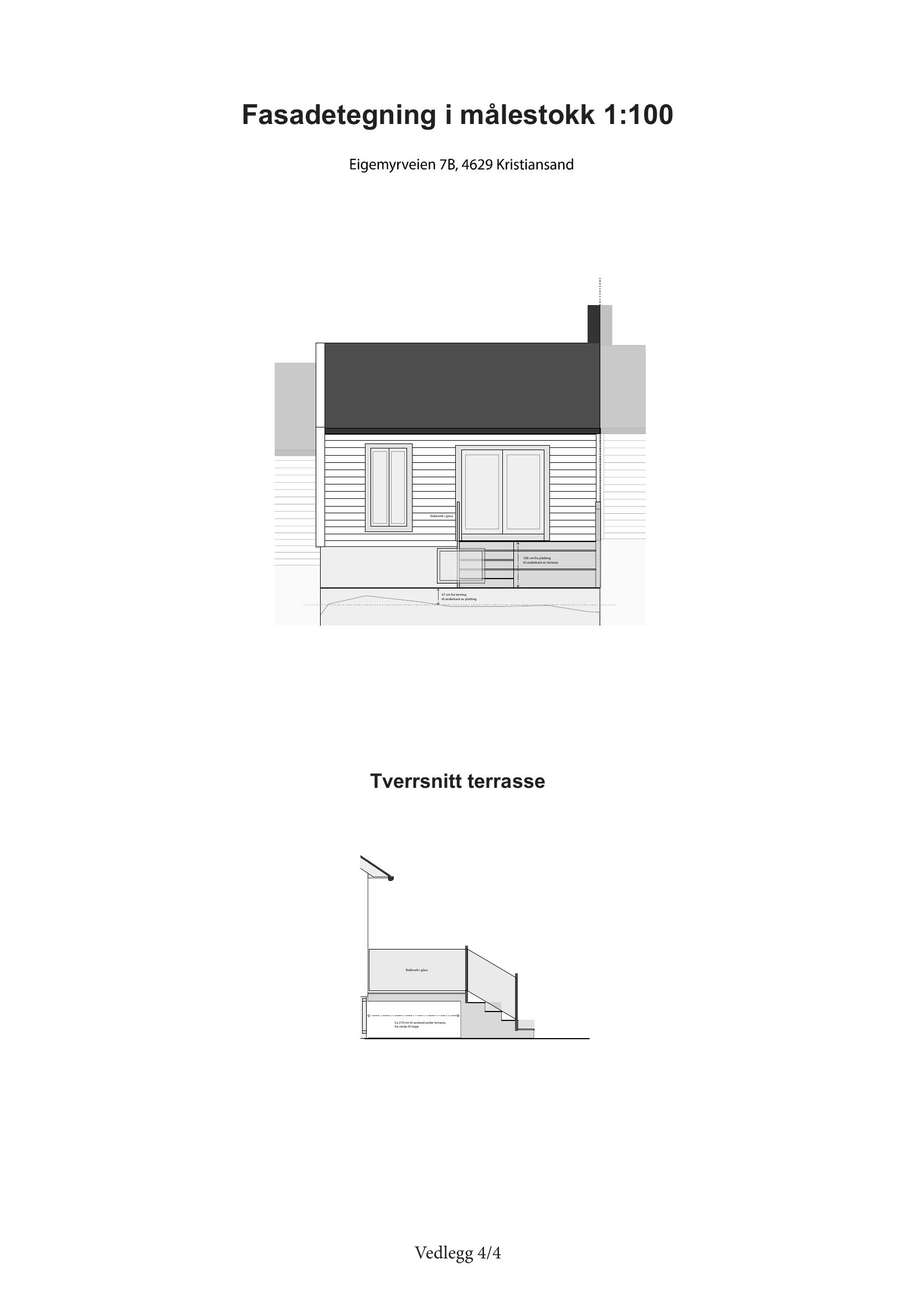fasade: (290, 295, 660, 635)
